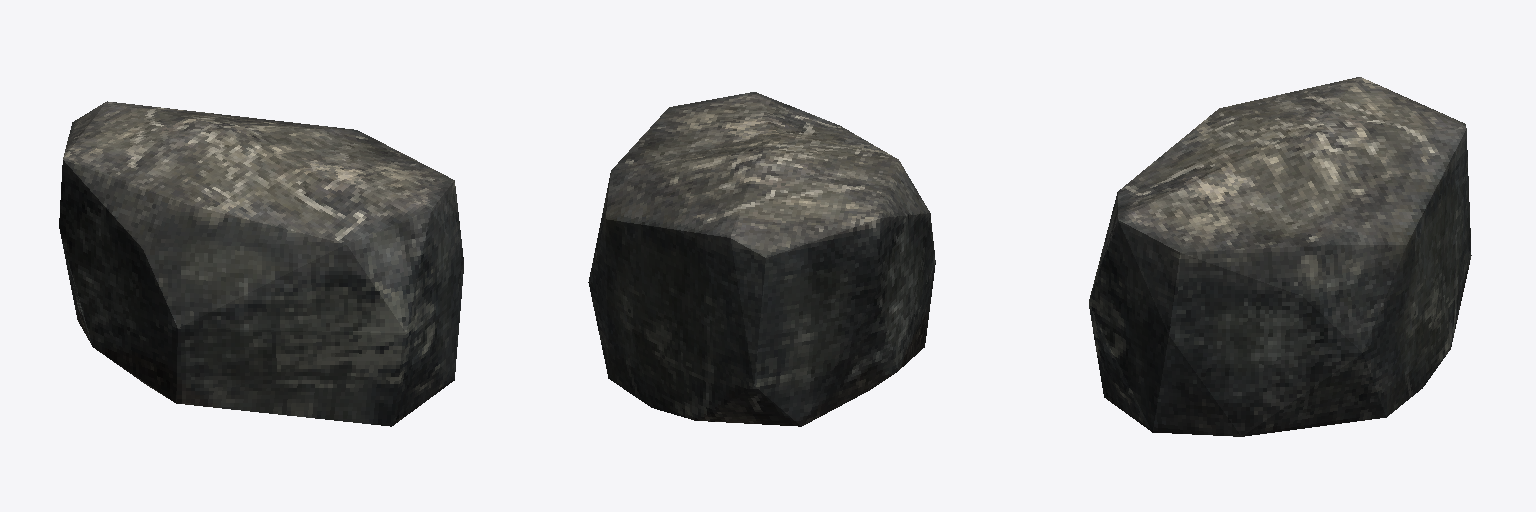
The picture shows the model from 3 angles: view 1: azimuth 30°, elevation 25°; view 2: azimuth 150°, elevation 25°; view 3: azimuth 270°, elevation 25°; orthographic projection.
Parts seen in each view (by area): view 1: smallrock2; view 2: smallrock2; view 3: smallrock2.
Boxes of the visible parts, x1=… form: smallrock2: x1=59, y1=101, x2=463, y2=426; smallrock2: x1=588, y1=92, x2=935, y2=426; smallrock2: x1=1089, y1=77, x2=1471, y2=436.
Size of the model in its own units: 3.74 by 2.75 by 4.05.
1 materials, 1 textured.